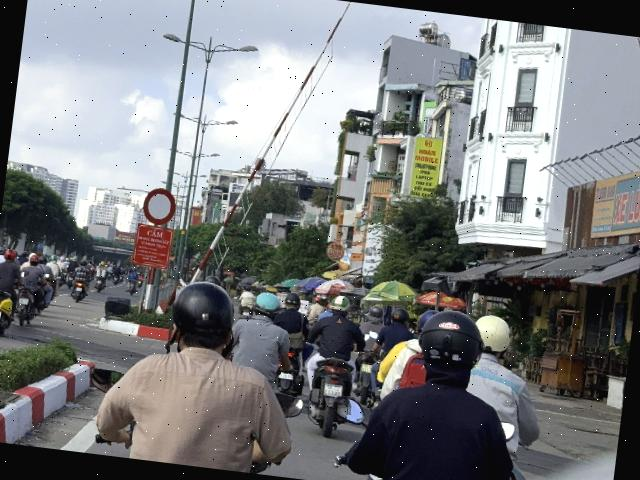duong-cam: (141, 186, 177, 227)
